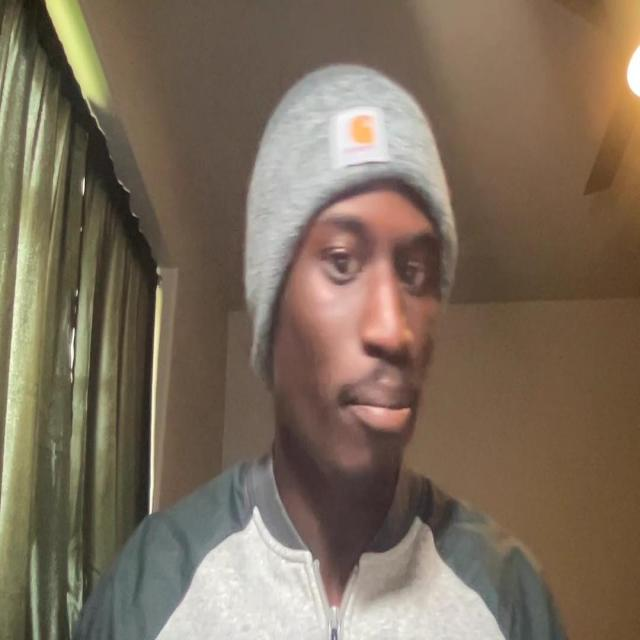face: (241, 44, 463, 492)
